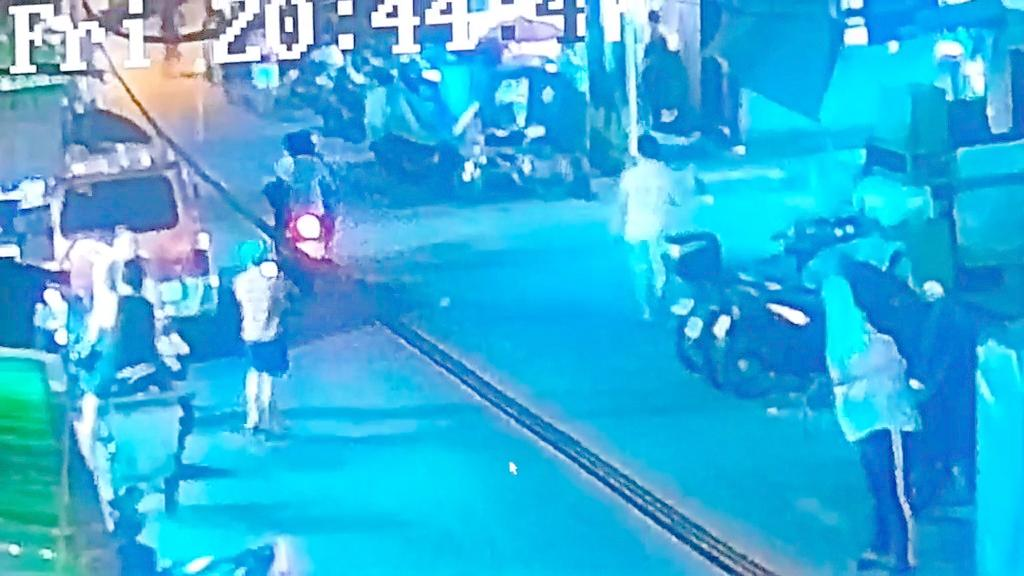Car: (40, 95, 230, 331)
Motor: (358, 7, 579, 215), (250, 106, 401, 359), (654, 221, 851, 400)
